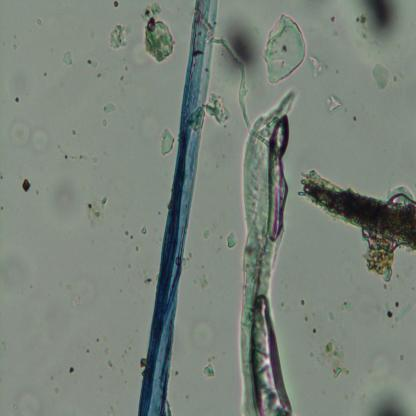Background material: (296, 171, 416, 280), (216, 18, 262, 90), (262, 12, 307, 82), (0, 233, 44, 297), (354, 0, 404, 53), (140, 1, 176, 64), (358, 377, 416, 415), (185, 311, 228, 355), (50, 169, 86, 214), (303, 0, 351, 32), (10, 119, 49, 155), (318, 337, 350, 379), (57, 271, 92, 308), (5, 64, 35, 102), (377, 296, 410, 327), (110, 56, 136, 94), (206, 90, 233, 124), (7, 389, 43, 414), (108, 21, 134, 52), (372, 61, 390, 92), (323, 12, 342, 38), (88, 196, 108, 220), (158, 126, 174, 156), (62, 147, 92, 162), (308, 54, 324, 82), (326, 91, 343, 114), (201, 362, 216, 379), (336, 299, 355, 312), (62, 48, 74, 68), (193, 274, 210, 288), (19, 175, 32, 193), (226, 231, 237, 250), (102, 101, 117, 114), (95, 116, 110, 128), (66, 125, 78, 138), (121, 228, 133, 240), (92, 72, 104, 82), (140, 224, 149, 237), (139, 358, 149, 369), (107, 357, 114, 372), (202, 228, 210, 240), (89, 58, 98, 68), (143, 276, 153, 285), (328, 309, 335, 321), (300, 294, 306, 307), (311, 325, 317, 337), (112, 0, 119, 8), (36, 18, 42, 26), (69, 365, 75, 373), (109, 351, 110, 356)
Cellulose filter fibre: (240, 90, 295, 415)
Cotton: (138, 1, 218, 415)
